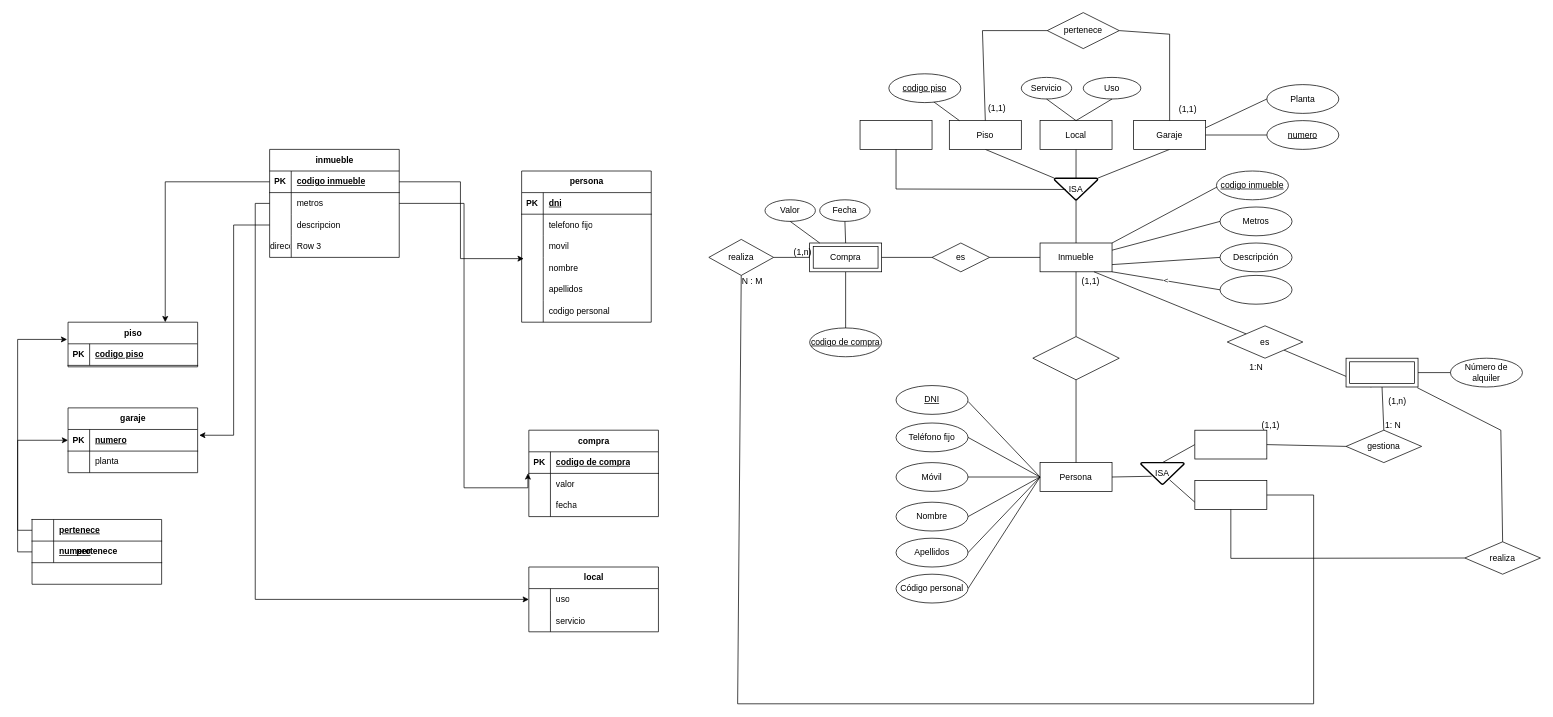
Image size: 1553x717. Some labels were removed from this diagram. The shapes that lost their labels are listed below. From the top down, each one's centre as x and y in pixels, then its label:
point 895,134: Otros
point 1255,289: Dirección
point 1075,358: pueden comprar
point 1381,372: Alquiler
point 1230,444: Trabajador
point 1230,494: Cliente
